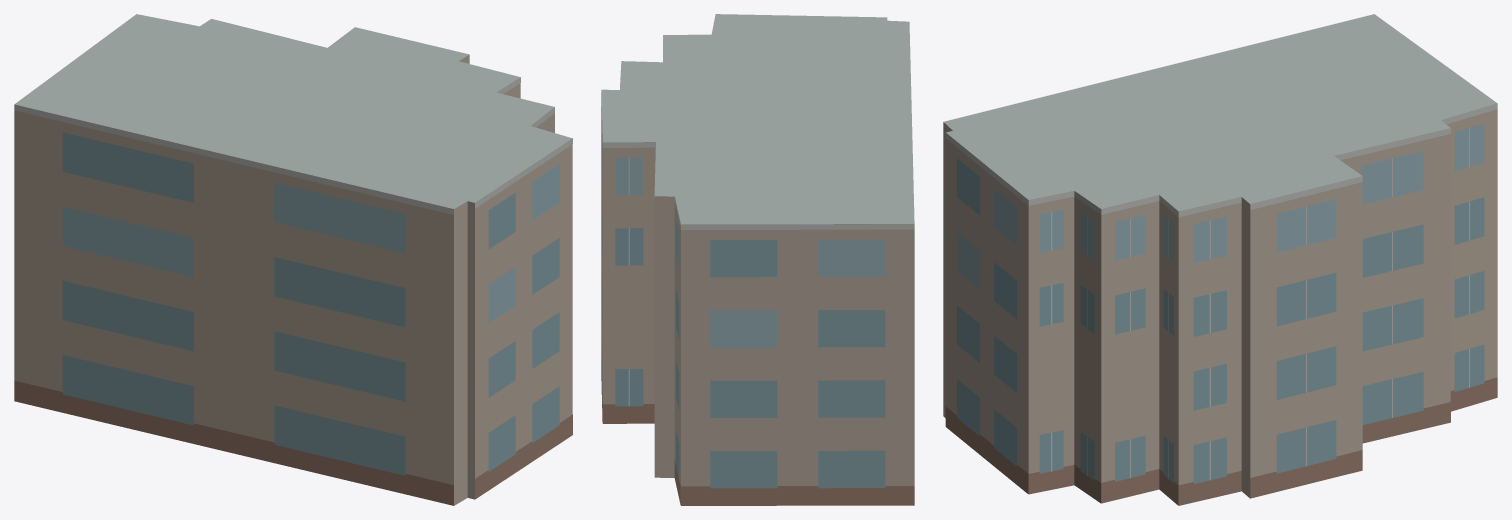
File: survey-upis-32616317.glb
3 renders of one model, left to right at view 1: azimuth 30°, elevation 25°; view 2: azimuth 150°, elevation 25°; view 3: azimuth 270°, elevation 25°, orthographic. The views are drawn at different scales.
Visible parts, largest first — view 1: survey-upis-32616317.tmp; view 2: survey-upis-32616317.tmp; view 3: survey-upis-32616317.tmp.
Part boxes in pixels (x1=…): survey-upis-32616317.tmp: x1=14, y1=14, x2=572, y2=505; survey-upis-32616317.tmp: x1=601, y1=14, x2=914, y2=505; survey-upis-32616317.tmp: x1=943, y1=14, x2=1497, y2=505.
Size of the model in its own units: 17.56 by 12.2 by 20.82.
